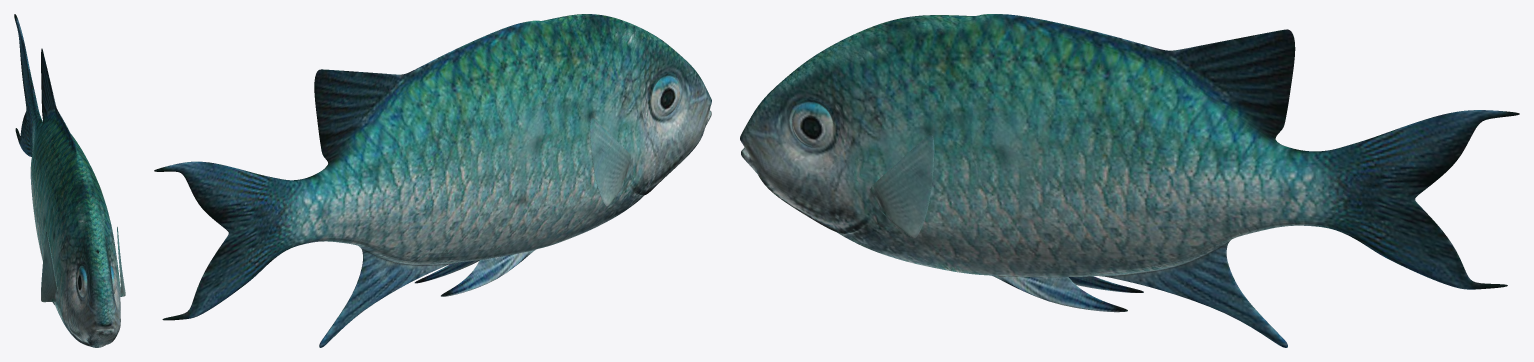
File: Fish.gltf
3 renders of one model, left to right at view 1: azimuth 30°, elevation 25°; view 2: azimuth 150°, elevation 25°; view 3: azimuth 270°, elevation 25°, orthographic. The views are drawn at different scales.
Parts seen in each view (by area): view 1: Default; view 2: Default; view 3: Default.
Boxes of the visible parts, x1,y1,x2,y2 form: Default: [14, 14, 125, 347]; Default: [154, 14, 711, 347]; Default: [740, 14, 1519, 347].
Size of the model in its own units: 2.76 by 3.26 by 7.23.
1 material, 1 textured.
